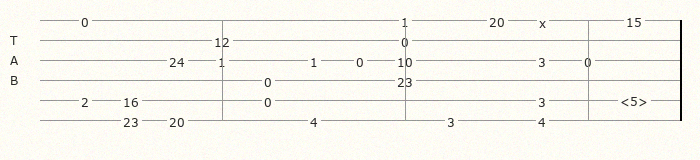0: (81, 14, 93, 27), (264, 94, 276, 107), (264, 74, 276, 87), (356, 54, 368, 67), (401, 34, 413, 47), (584, 54, 596, 67)
1: (218, 54, 230, 67), (310, 54, 322, 67), (401, 14, 413, 27)
10: (397, 54, 417, 67)
12: (214, 34, 234, 47)
15: (626, 14, 646, 27)
16: (123, 94, 143, 107)
2: (81, 94, 93, 107)
20: (169, 114, 189, 127), (489, 14, 509, 27)
23: (123, 114, 143, 127), (397, 74, 417, 87)
24: (169, 54, 189, 67)
3: (447, 114, 459, 127), (538, 54, 550, 67), (538, 94, 550, 107)
4: (310, 114, 322, 127), (538, 114, 550, 127)
harmonic: (620, 93, 652, 107)
x: (539, 15, 550, 26)
